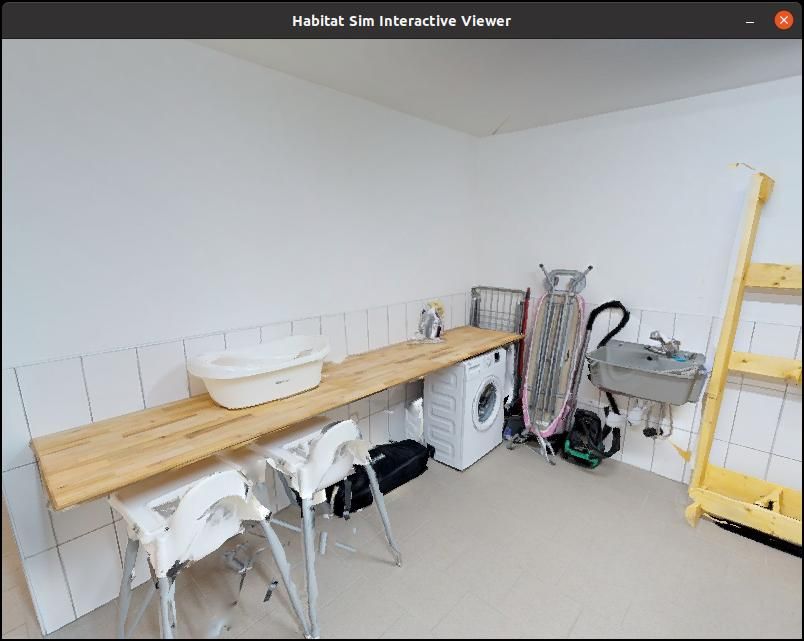table: (22, 308, 534, 521)
